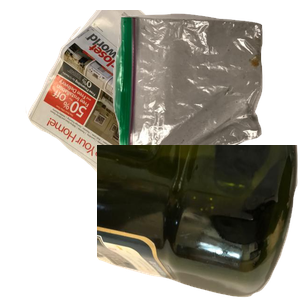glass: (96, 190, 230, 300)
paper: (23, 10, 245, 190)
plastic: (97, 145, 300, 300)
trash: (110, 11, 300, 167)
